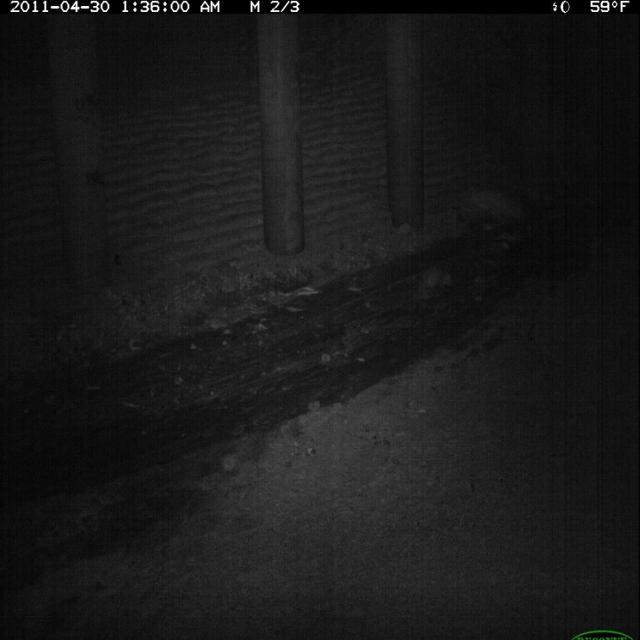opossum: (387, 260, 459, 303)
